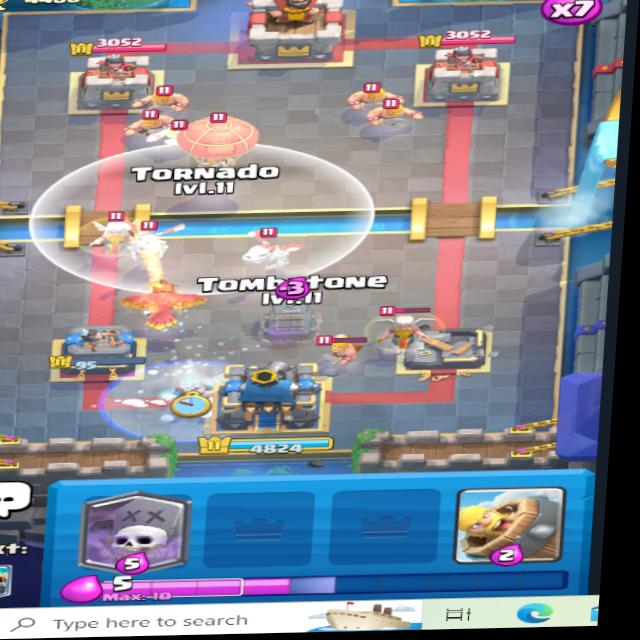balloon: (176, 114, 258, 181)
barbarian: (317, 325, 368, 367), (370, 95, 424, 131), (124, 105, 187, 135), (145, 77, 195, 113), (153, 115, 207, 147), (348, 82, 403, 109)
battle-healer: (362, 298, 450, 350), (79, 205, 152, 261)
skeleton-dragon: (229, 233, 311, 272), (120, 221, 191, 262)
